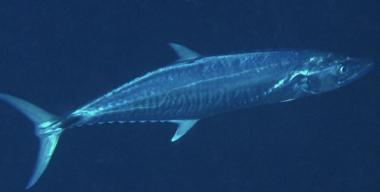Scombridae -Tunas-: (0, 37, 380, 192)
